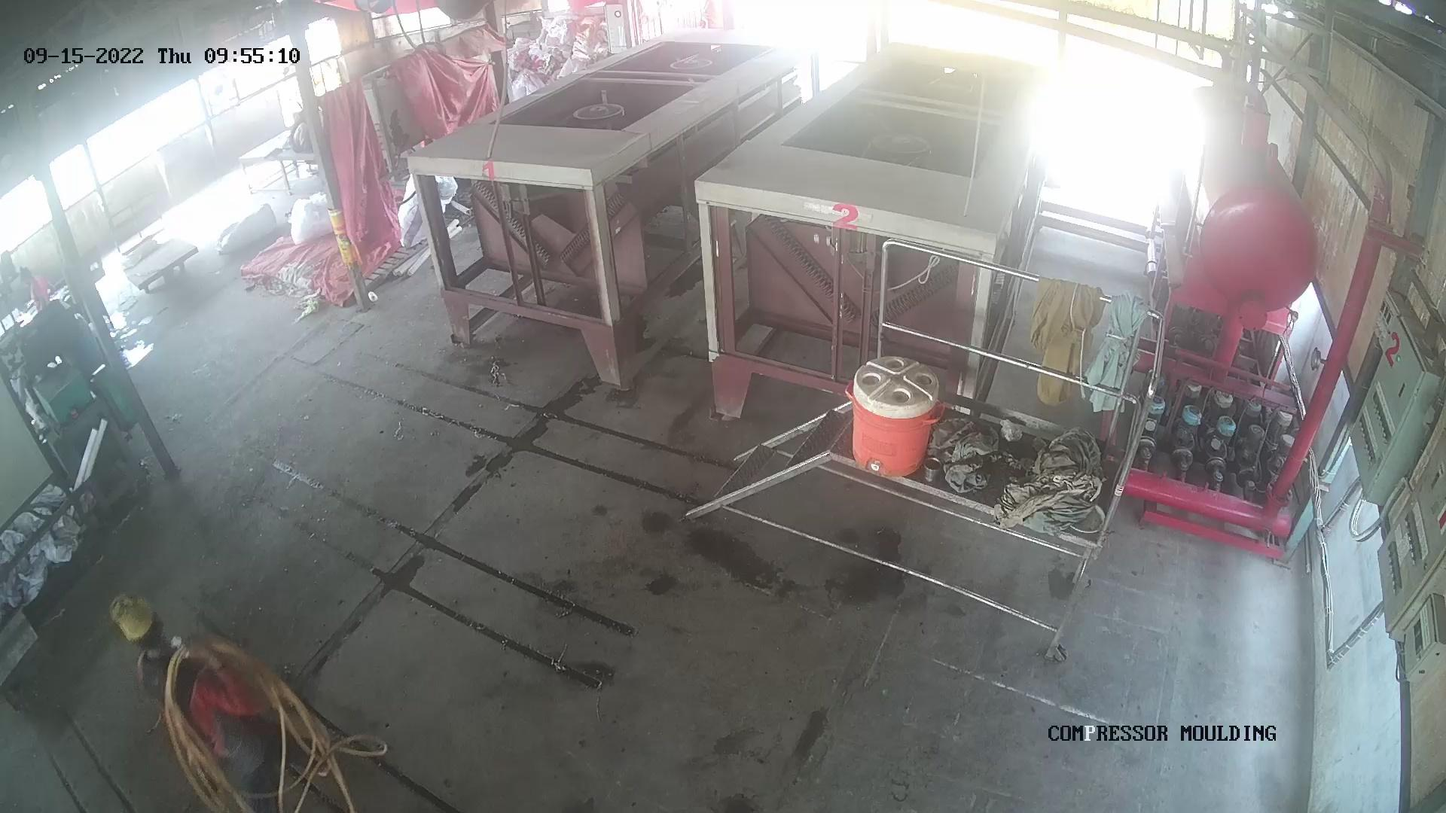person: (109, 593, 315, 807)
